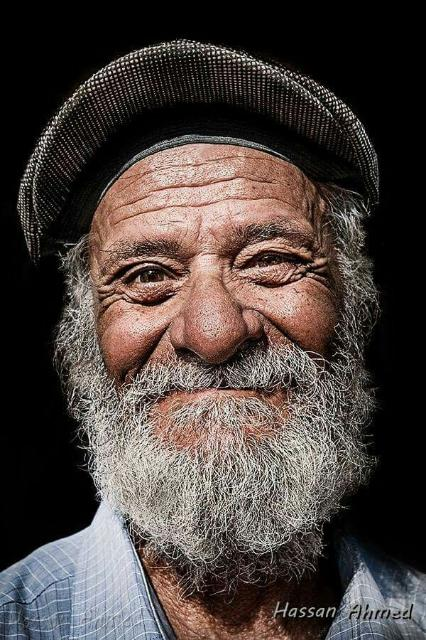crows_feet: (301, 252, 331, 286), (96, 278, 124, 312)
forehead: (224, 184, 278, 212), (111, 192, 160, 222), (205, 148, 256, 170), (218, 169, 268, 189), (135, 158, 189, 176), (168, 173, 212, 193)
frown_line: (190, 216, 210, 244)
gummy_smile: (136, 326, 170, 369), (262, 309, 300, 341)
